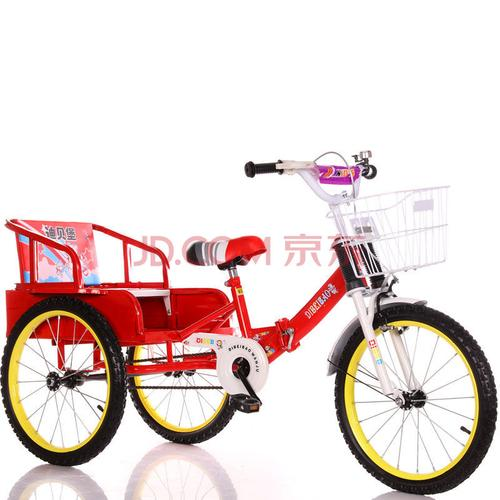empty: (6, 142, 497, 500)
